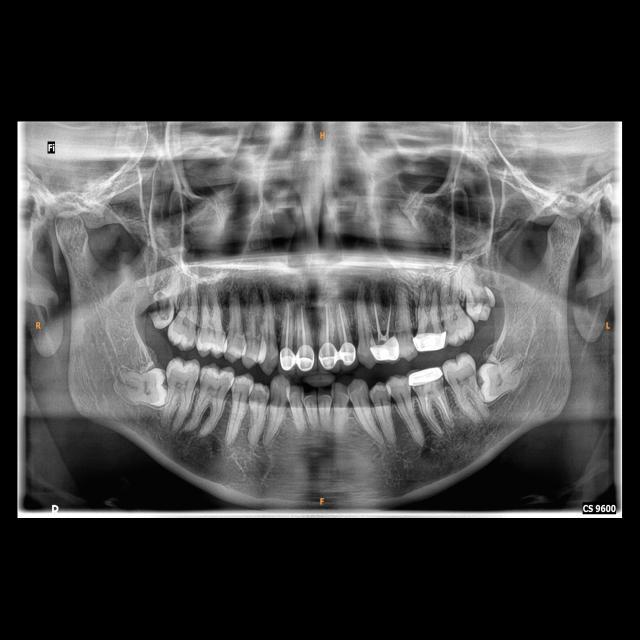kanal-tedavisi: (423, 389, 456, 432), (369, 295, 396, 339), (293, 300, 312, 352), (334, 298, 351, 348), (322, 299, 335, 355), (282, 300, 292, 354)
kaplama: (411, 326, 449, 353), (371, 340, 405, 365), (406, 367, 444, 389), (338, 337, 360, 370), (295, 342, 316, 372), (318, 342, 340, 369), (280, 345, 297, 370)
